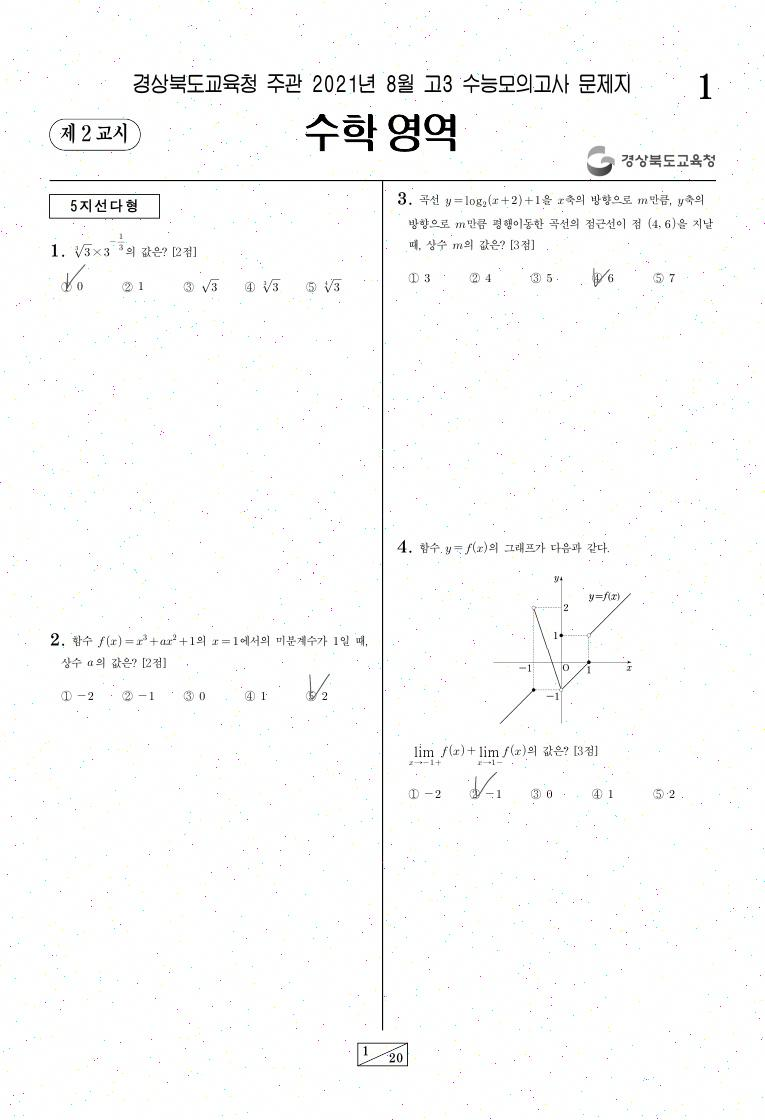question: (383, 530, 696, 815), (386, 182, 721, 303), (33, 624, 378, 719), (40, 226, 360, 315)
